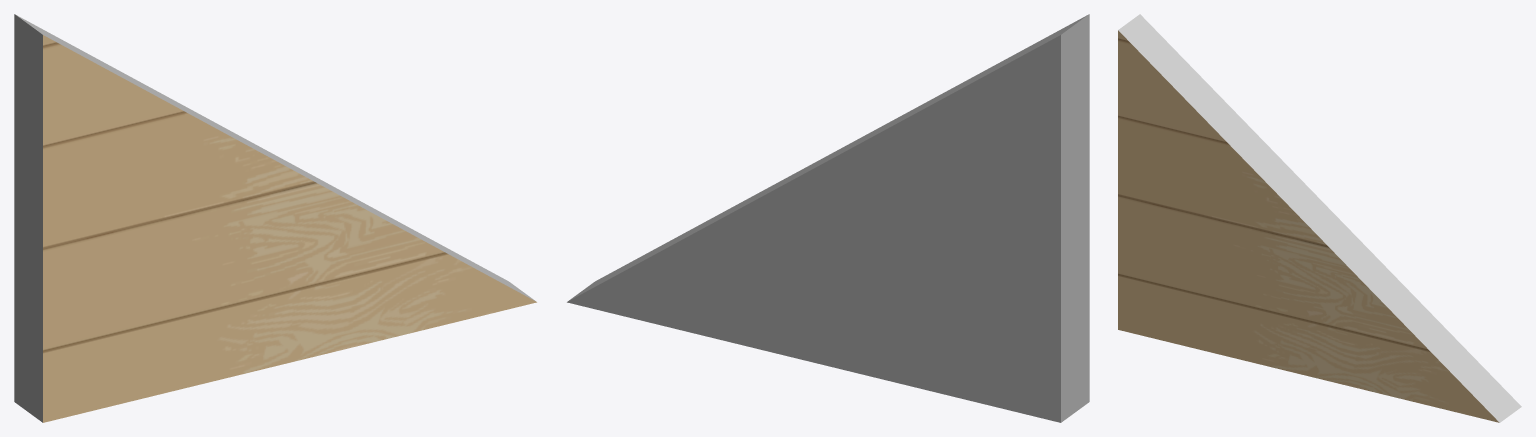
File: Wall Standard Triangle.fbx
3 renders of one model, left to right at view 1: azimuth 30°, elevation 25°; view 2: azimuth 150°, elevation 25°; view 3: azimuth 330°, elevation 25°, orthographic. The views are drawn at different scales.
Visible parts, largest first — view 1: Wall Standard (Triangle); view 2: Wall Standard (Triangle); view 3: Wall Standard (Triangle).
Boxes of the visible parts, <box> form: Wall Standard (Triangle): <box>14,14,536,422</box>; Wall Standard (Triangle): <box>567,14,1089,422</box>; Wall Standard (Triangle): <box>1118,14,1521,422</box>.
Bounding box in the file's own units: 200 × 150 × 20.
